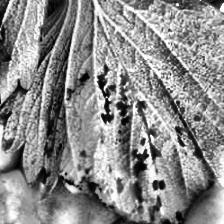Angular Leafspot: (2, 55, 212, 224)
